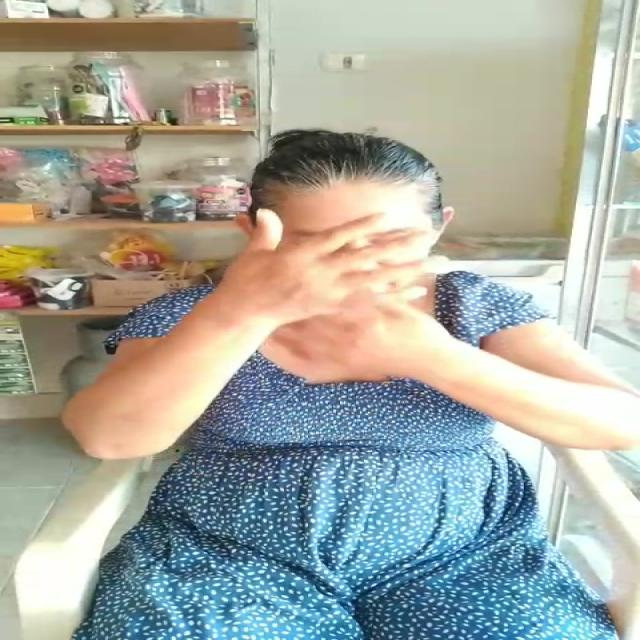7_mano_rostro: (245, 200, 428, 348)
